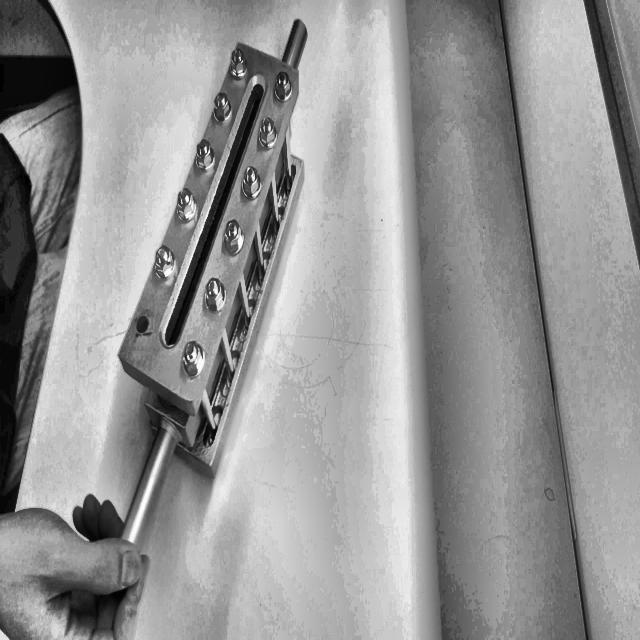ShuiWeiQi_11: (114, 7, 324, 484)
